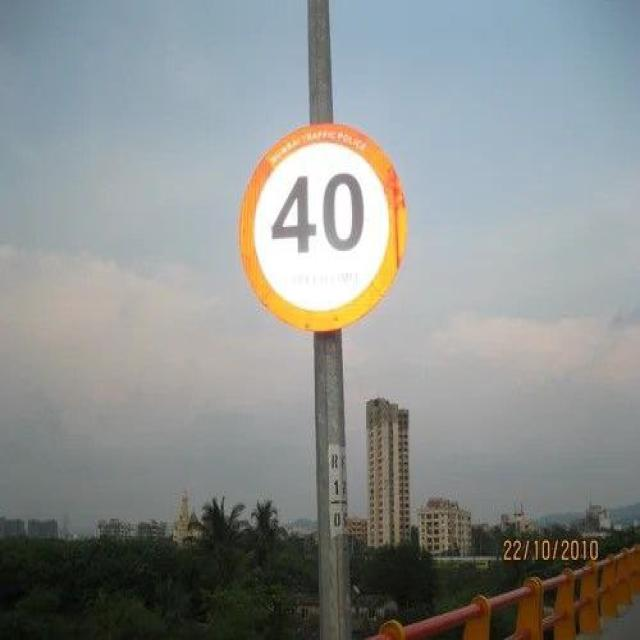speedlimit_40: (239, 127, 416, 326)
